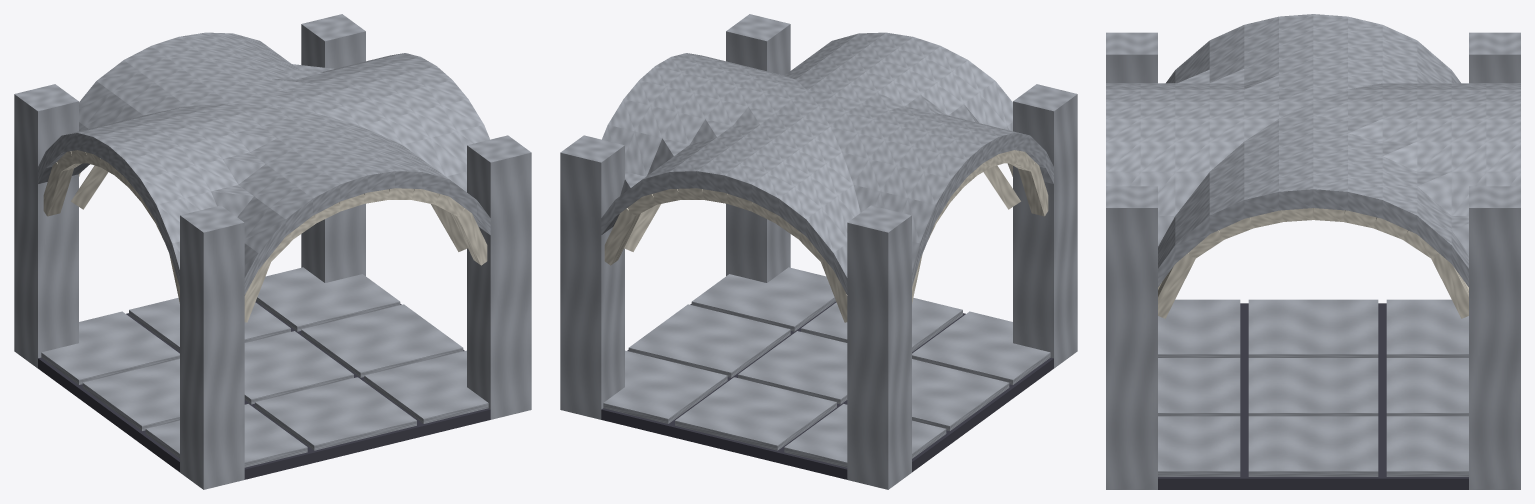
File: vampire-crypt-and-gothic-cathedral-crypt-corridor-cros-de71dbaf__22975.glb
The picture shows the model from 3 angles, left to right: view 1: azimuth 30°, elevation 25°; view 2: azimuth 150°, elevation 25°; view 3: azimuth 270°, elevation 25°; orthographic projection. The views are drawn at different scales.
Parts seen in each view (by area): view 1: crypt-corridor-cross; view 2: crypt-corridor-cross; view 3: crypt-corridor-cross.
Part boxes in pixels (x1,y1,x2,y2): crypt-corridor-cross: (14, 14, 531, 489); crypt-corridor-cross: (560, 14, 1077, 489); crypt-corridor-cross: (1106, 14, 1520, 489).
Size of the model in its own units: 4 by 3.2 by 4.
4 materials, 2 textured.
